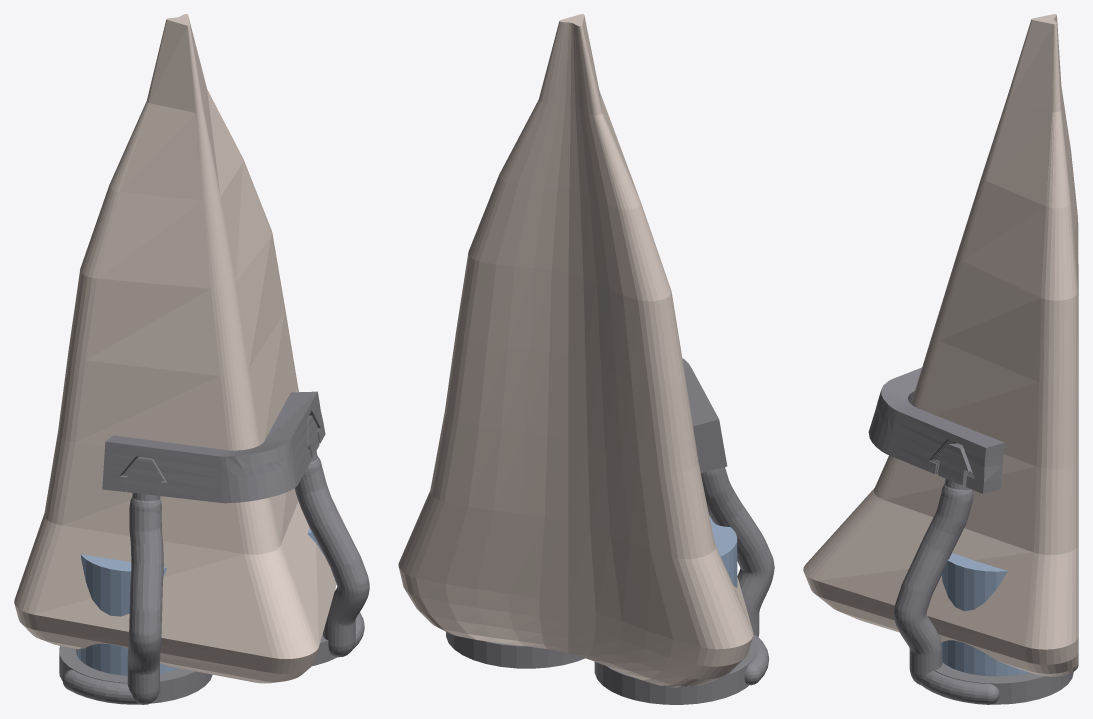
File: candidate_inconspicuous.glb
The picture shows the model from 3 angles, left to right: view 1: azimuth 30°, elevation 25°; view 2: azimuth 150°, elevation 25°; view 3: azimuth 270°, elevation 25°; orthographic projection. The views are drawn at different scales.
Parts seen in each view (by area): view 1: body, frame_bridge, frame_leg_left, frame_leg_right, plug_left; view 2: body, frame_leg_left, frame_leg_right, frame_bridge, plug_left; view 3: body, frame_leg_right, frame_bridge, plug_right.
Part boxes in pixels (x1,y1,x2,y2): body: [14, 14, 348, 683]; frame_bridge: [102, 391, 325, 503]; frame_leg_left: [59, 457, 212, 704]; frame_leg_right: [294, 415, 369, 666]; plug_left: [78, 554, 178, 675]; body: [398, 14, 753, 687]; frame_leg_left: [594, 467, 774, 704]; frame_leg_right: [446, 632, 584, 668]; frame_bridge: [682, 358, 727, 472]; plug_left: [709, 517, 737, 587]; body: [803, 14, 1078, 676]; frame_leg_right: [894, 443, 1073, 704]; frame_bridge: [868, 367, 1004, 493]; plug_right: [941, 553, 1028, 676].
Size of the model in its own units: 32.56 by 58.8 by 23.68.
